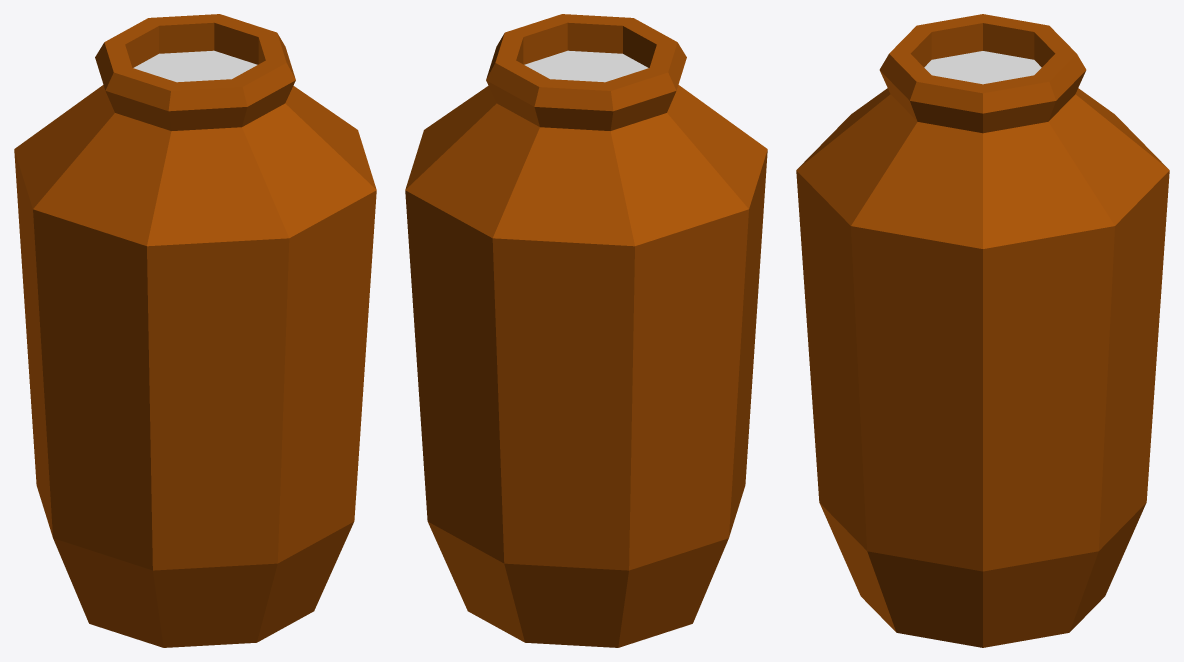
File: jar-big.fbx
3 renders of one model, left to right at view 1: azimuth 30°, elevation 25°; view 2: azimuth 150°, elevation 25°; view 3: azimuth 270°, elevation 25°, orthographic.
Visible parts, largest first — view 1: jar-big; view 2: jar-big; view 3: jar-big.
Boxes of the visible parts, box(x1,y1,x2,y2) form: jar-big: box(14, 14, 376, 647); jar-big: box(405, 14, 767, 647); jar-big: box(796, 14, 1169, 647).
Bounding box in the file's own units: 0.6876 × 1.14 × 0.6876.
